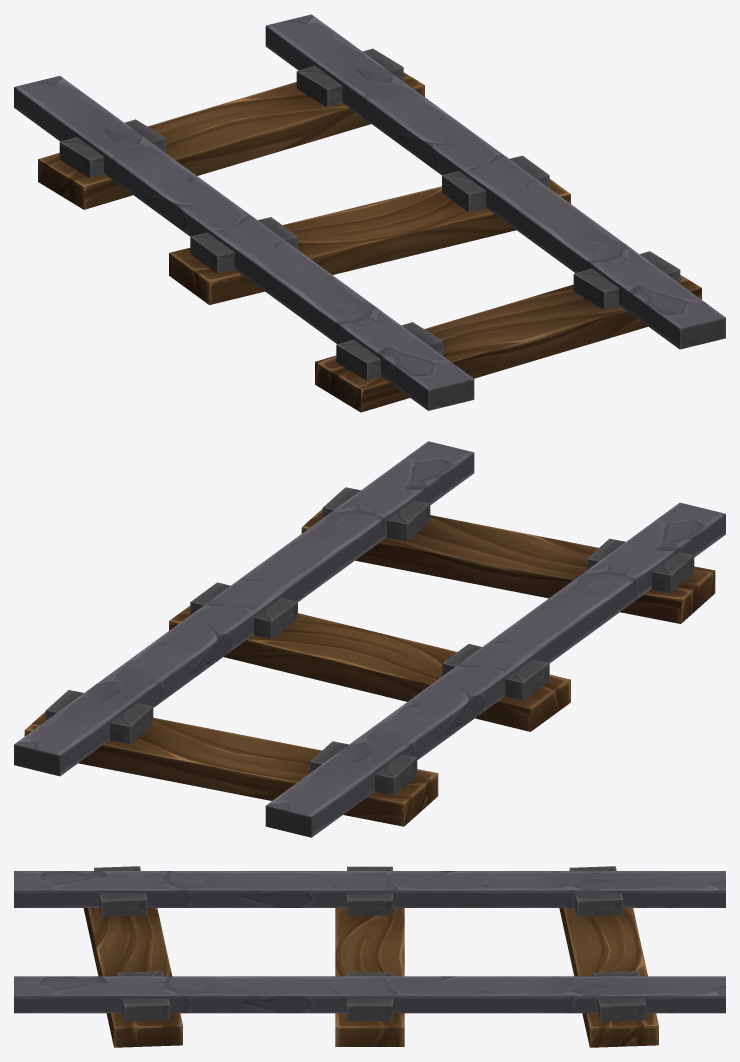
File: Railway_2.FBX
3 views of the same model, one above another, from view 1: azimuth 30°, elevation 25°; view 2: azimuth 150°, elevation 25°; view 3: azimuth 270°, elevation 25° (orthographic). The views are drawn at different scales.
Visible parts, largest first — view 1: Railway_2; view 2: Railway_2; view 3: Railway_2.
Boxes of the visible parts, bbox=[...] form: Railway_2: bbox=[14, 14, 725, 412]; Railway_2: bbox=[14, 441, 725, 837]; Railway_2: bbox=[14, 866, 725, 1047].
Size of the model in its own units: 1.02 by 0.1172 by 2.
